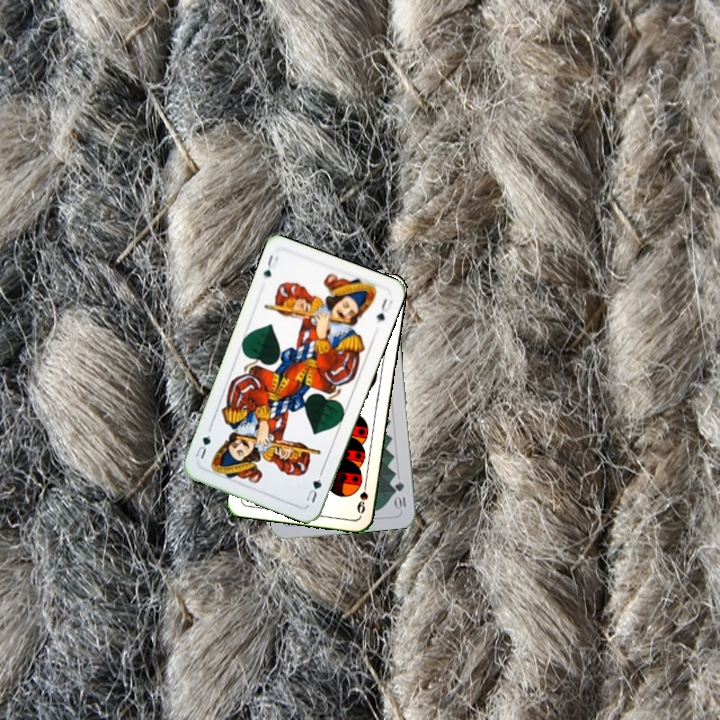G10: (391, 478, 408, 512)
GU: (302, 468, 325, 505), (259, 250, 281, 280)
S9: (353, 476, 371, 516)
